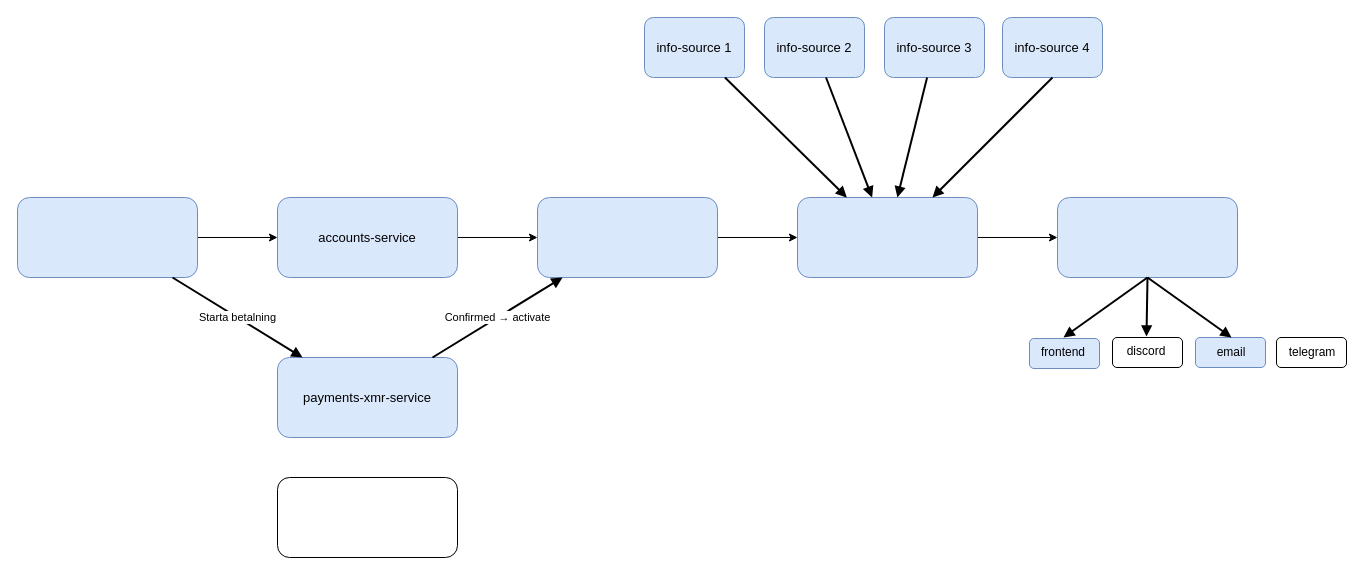
This 1364x575 diagram has some shape labels left out. Each missing label, with the centre of its shape:
notifications-service: pixel 1147 237
payments-btc-service: pixel 367 517
reporter-service: pixel 887 237
subscriptions-service: pixel 627 237
Web-frontend (UI): pixel 107 237
